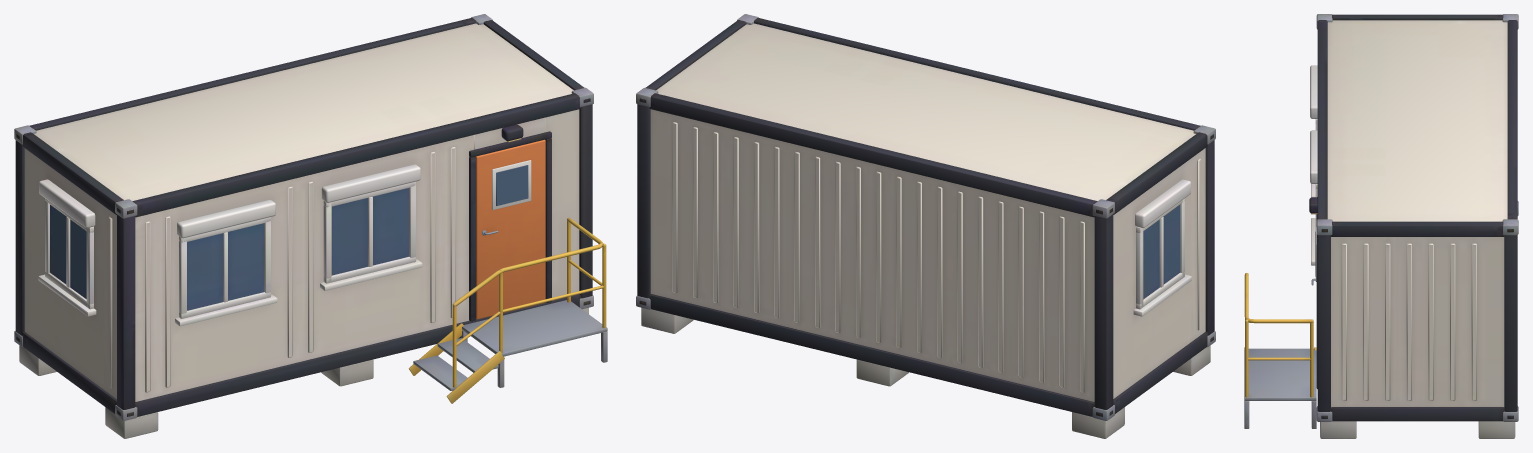
File: site-office.glb
The picture shows the model from 3 angles, left to right: view 1: azimuth 30°, elevation 25°; view 2: azimuth 150°, elevation 25°; view 3: azimuth 270°, elevation 25°; orthographic projection. The views are drawn at different scales.
Visible parts, largest first — view 1: site-office_body, site-office_door; view 2: site-office_body; view 3: site-office_body.
Part boxes in pixels (<box>): site-office_body: <box>14,14,607,438</box>; site-office_door: <box>476,139,545,319</box>; site-office_body: <box>636,14,1215,438</box>; site-office_body: <box>1244,14,1518,438</box>.
Size of the model in its own units: 6.1 by 2.9 by 3.29.
2 materials, 2 textured.
